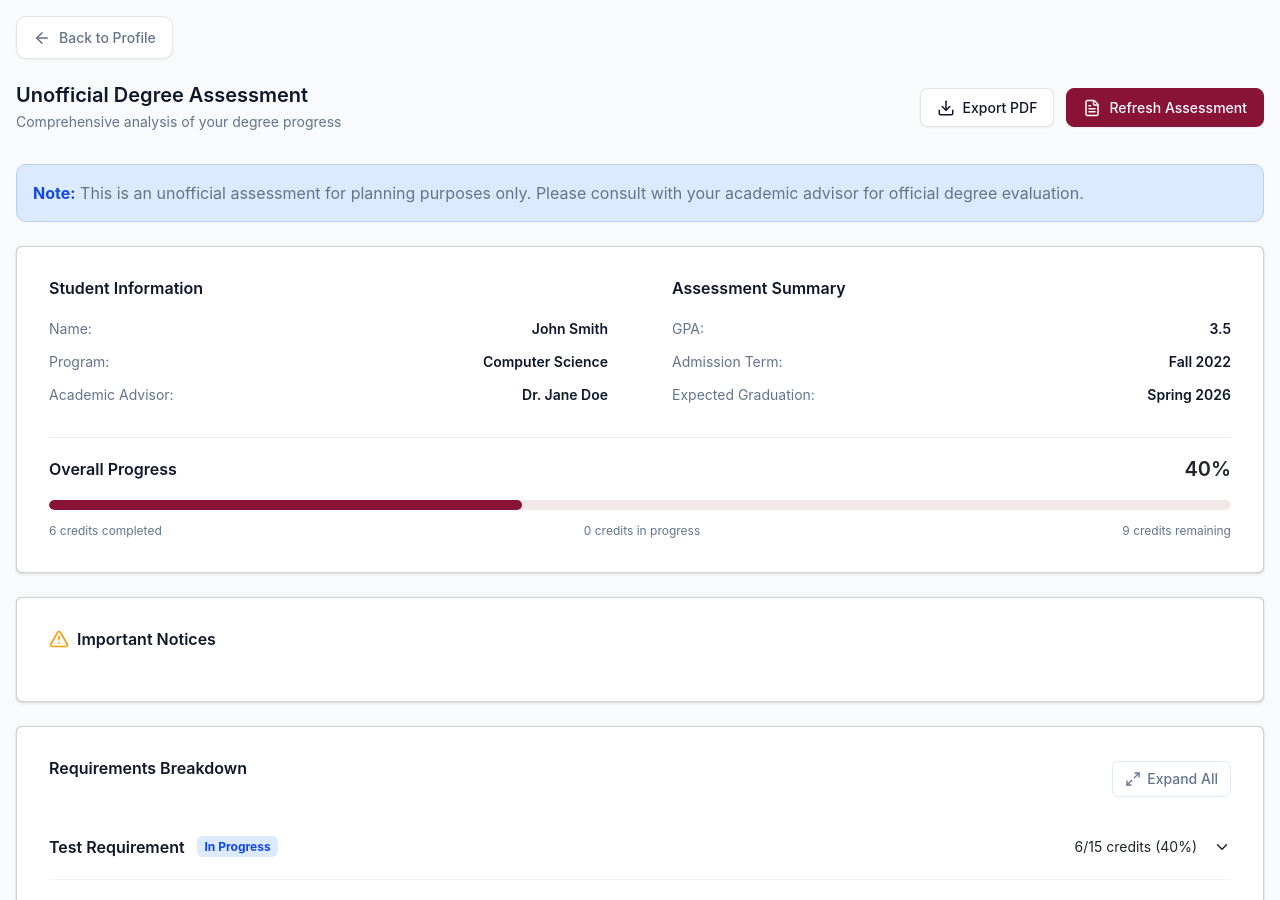
Test: DegreeAuditPage › should not show credits in progress legend when 0 for a requirement
Expand requirement
What coordinates should you click on to do the following:
click the text "Test Requirement"
I would click on:
 (117, 847)
Its box is [49, 835, 185, 859].
(page scrolled)
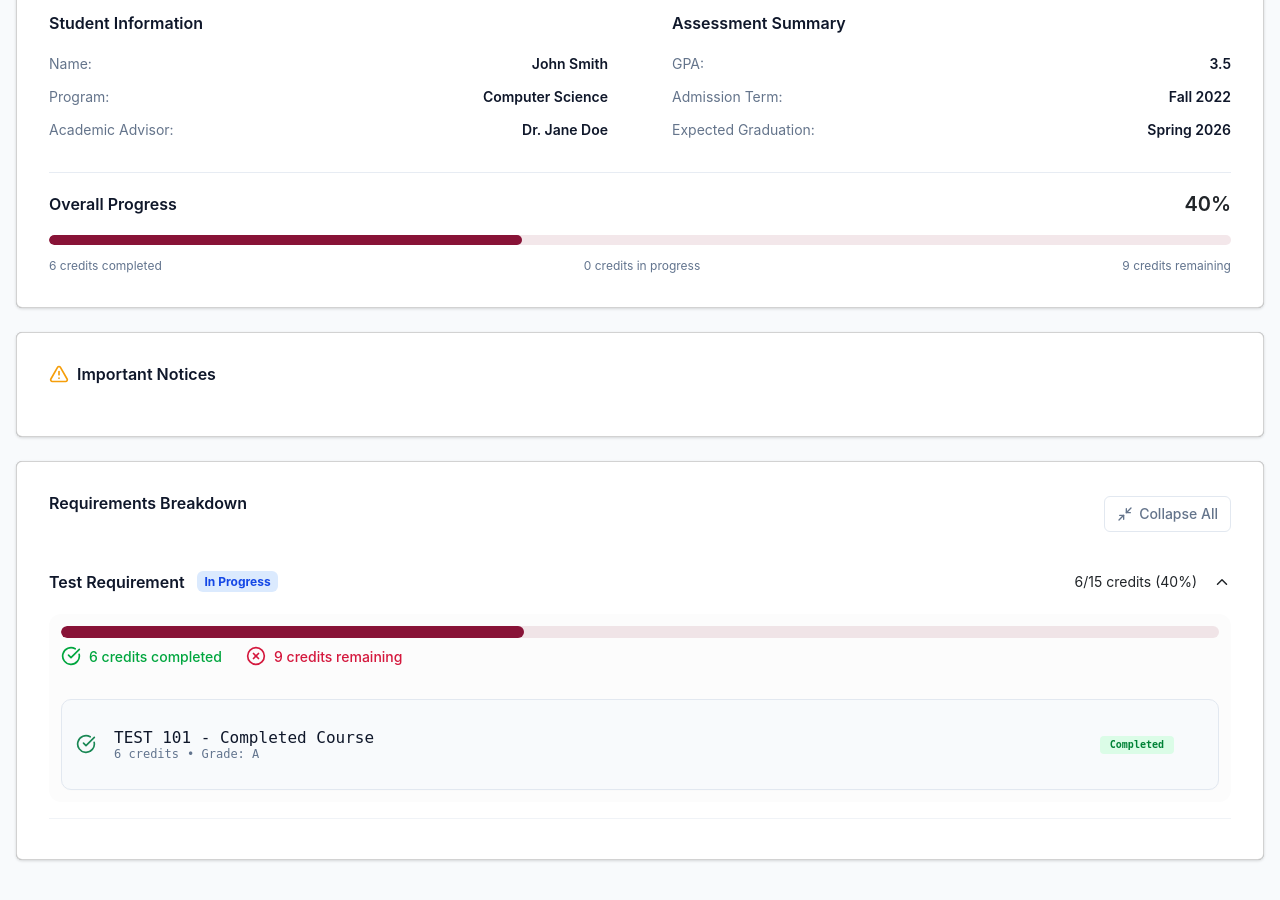
Expected: the element with class "legend-remaining" is shown, [246, 646, 402, 667]
